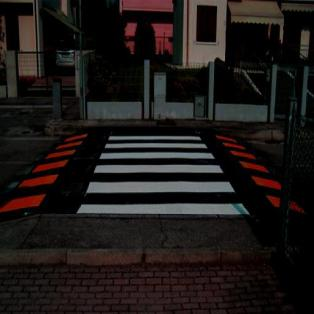Paso de Cebra: (84, 162, 238, 198), (102, 132, 211, 151)
